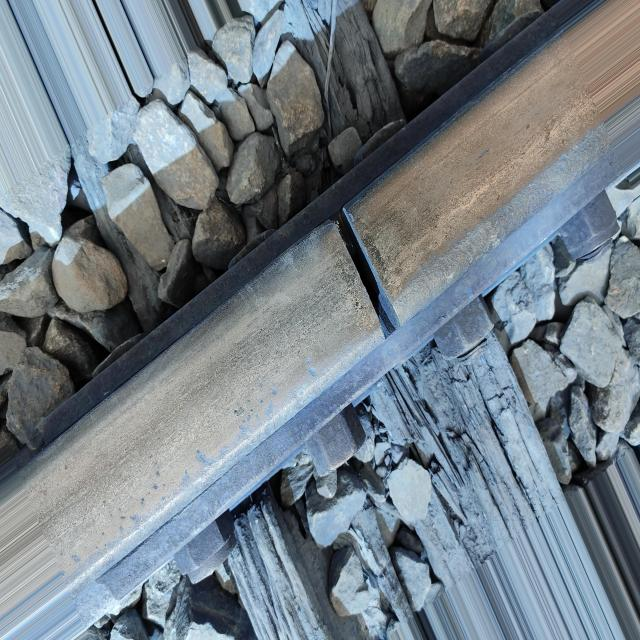crack: (304, 182, 424, 372)
